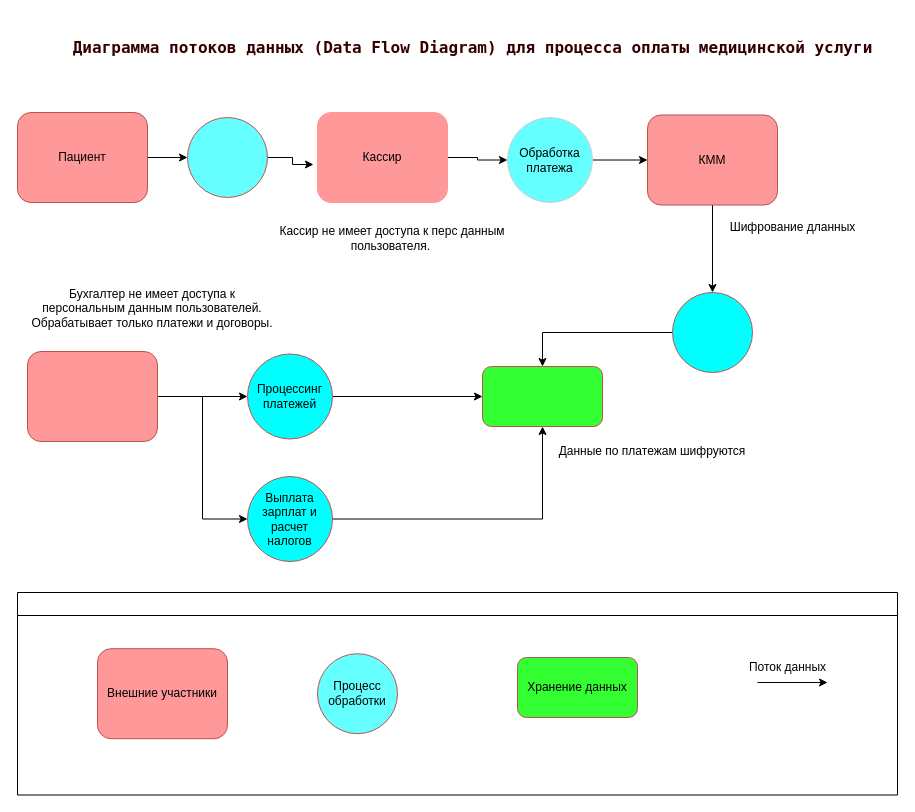
Some shapes in this 915 by 812 pixel diagram are drawn without their labels. Each missing label, with the box of its shape:
1С Бухгалтерия предприятия храненилище: (482, 366, 602, 426)
Бухгалтер: (26, 350, 158, 442)
Легенда: (16, 592, 898, 795)
Оплата медицинской услуги: (186, 116, 268, 198)
Сохранение информации о платеже: (672, 292, 752, 372)
